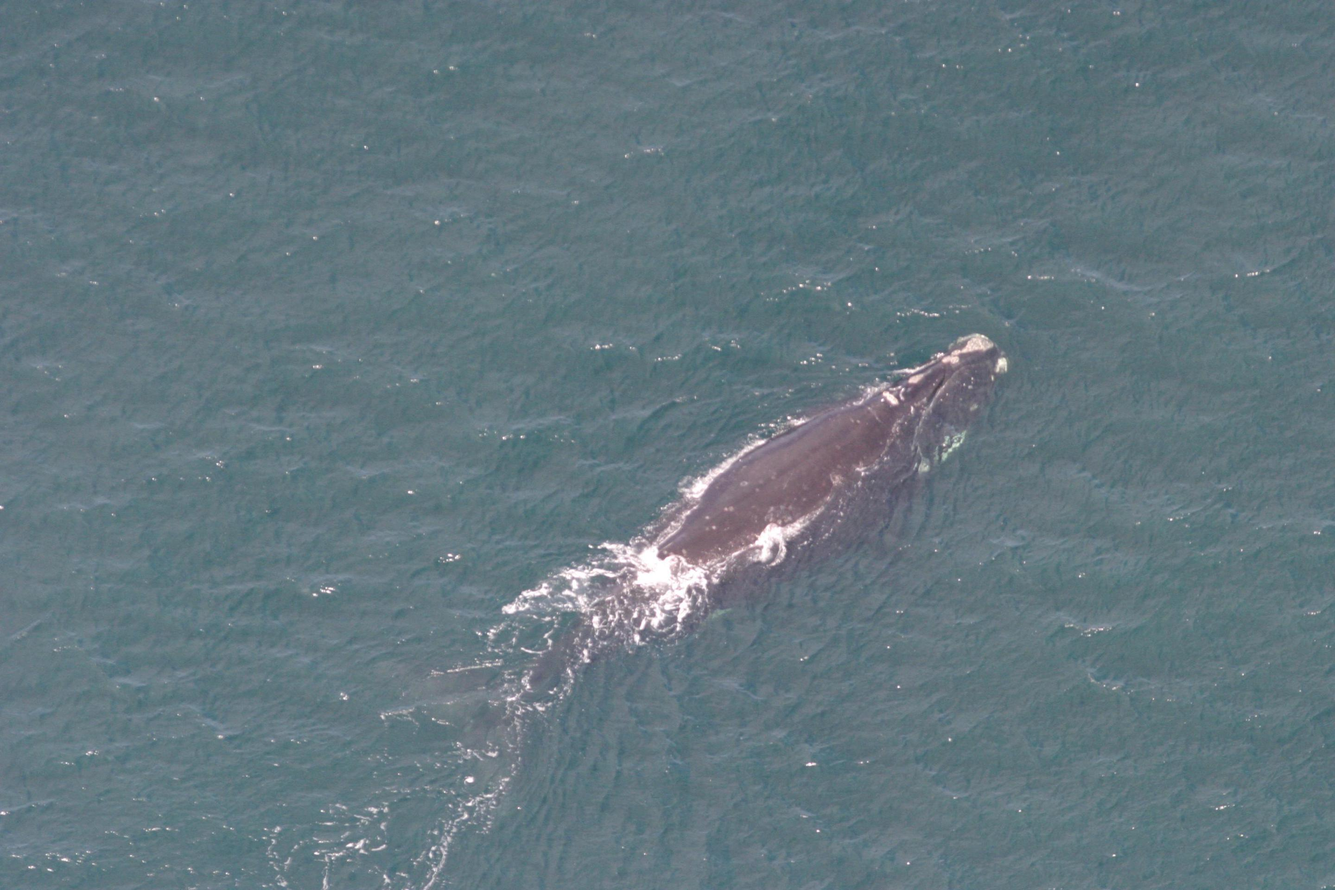whale: (372, 330, 1017, 823)
